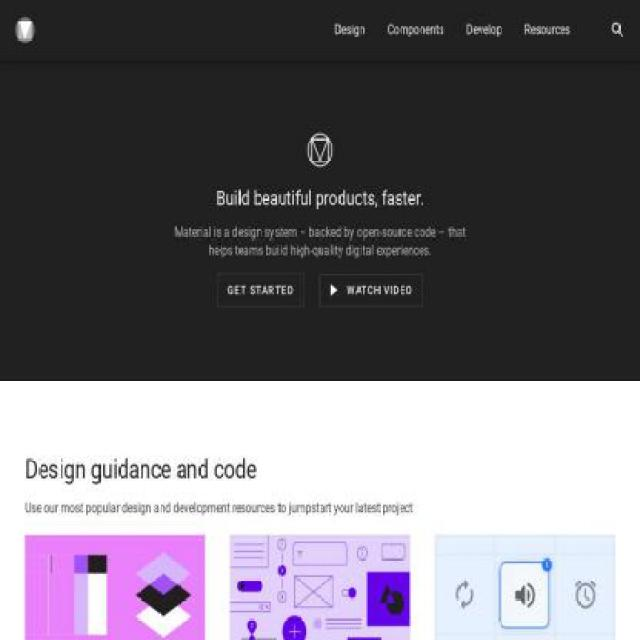button: (12, 518, 218, 639), (217, 518, 423, 639), (422, 518, 628, 639), (378, 0, 453, 60), (514, 0, 580, 60), (319, 274, 424, 308), (456, 0, 512, 60), (324, 0, 376, 60), (217, 273, 306, 307), (0, 0, 45, 60)
